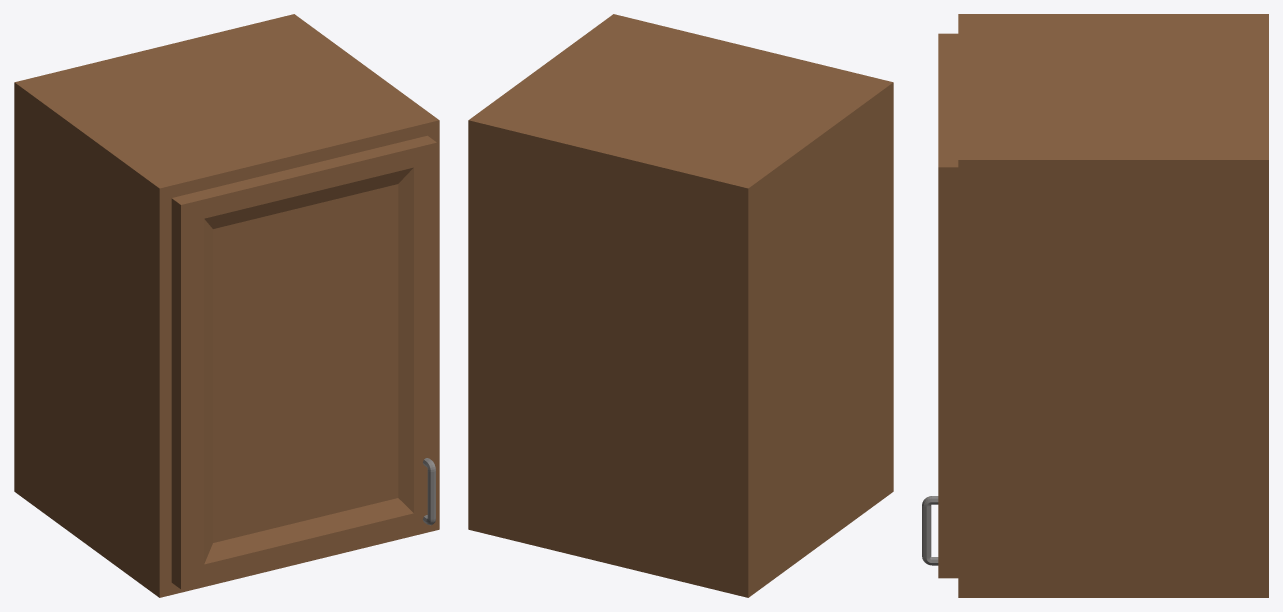
The model's file is Kitchen Tabletop_11.fbx.
3 views of the same model, side by side, from view 1: azimuth 30°, elevation 25°; view 2: azimuth 150°, elevation 25°; view 3: azimuth 270°, elevation 25° (orthographic). The views are drawn at different scales.
Visible parts, largest first — view 1: Kitchen Tabletop_11; view 2: Kitchen Tabletop_11; view 3: Kitchen Tabletop_11.
Part boxes in pixels (x1,y1,x2,y2): Kitchen Tabletop_11: (14,14,439,597); Kitchen Tabletop_11: (468,14,893,597); Kitchen Tabletop_11: (922,14,1268,597).
Bounding box in the file's own units: 42.95 × 60.04 × 43.1.
